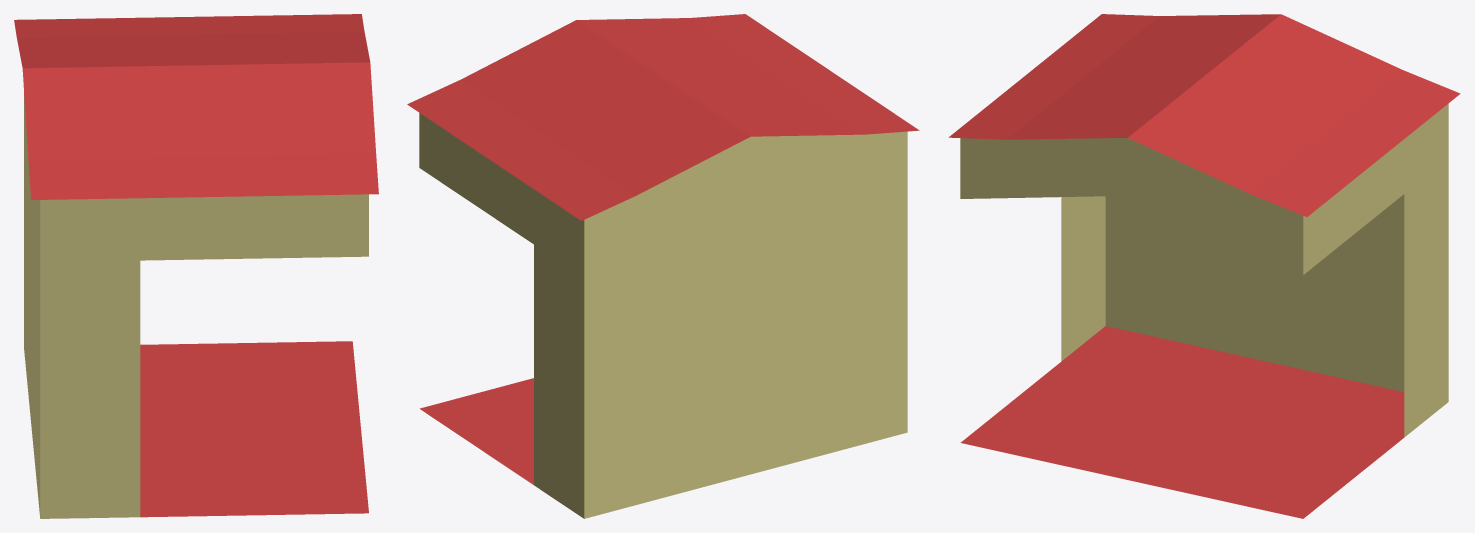
3 views of the same model, side by side, from view 1: azimuth 30°, elevation 25°; view 2: azimuth 150°, elevation 25°; view 3: azimuth 270°, elevation 25° (orthographic). The views are drawn at different scales.
Size of the model in its own units: 13.38 by 14.25 by 10.63.
